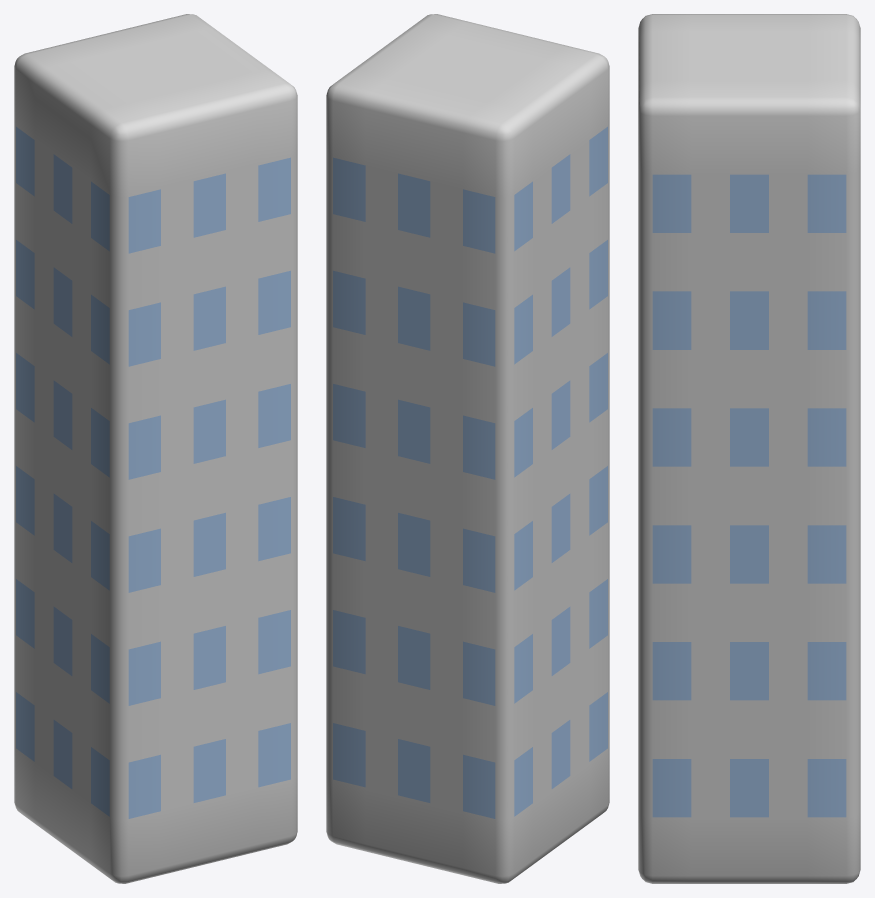
Rendered from Building_1.fbx.
3 renders of one model, left to right at view 1: azimuth 30°, elevation 25°; view 2: azimuth 150°, elevation 25°; view 3: azimuth 270°, elevation 25°, orthographic. The views are drawn at different scales.
Parts seen in each view (by area): view 1: Building_1; view 2: Building_1; view 3: Building_1.
Part boxes in pixels (x1,y1,x2,y2): Building_1: (14,14,297,883); Building_1: (326,14,609,883); Building_1: (638,14,860,883).
Size of the model in its own units: 82.96 by 324 by 82.96.
